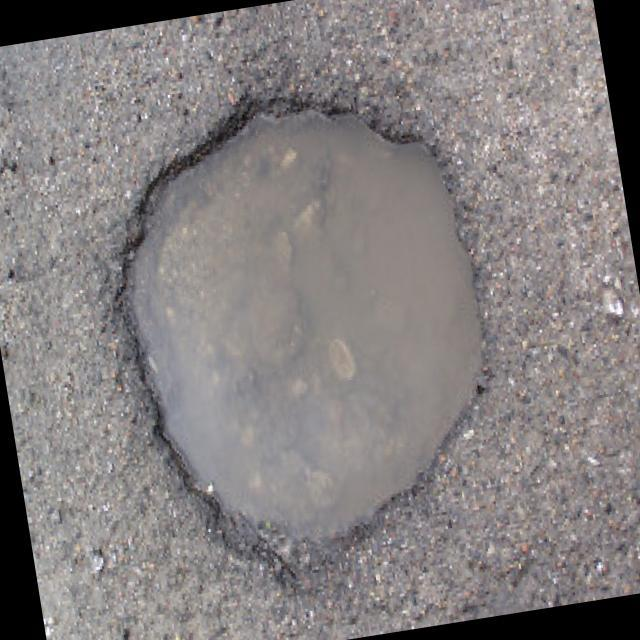Pothole: (87, 62, 528, 612)
